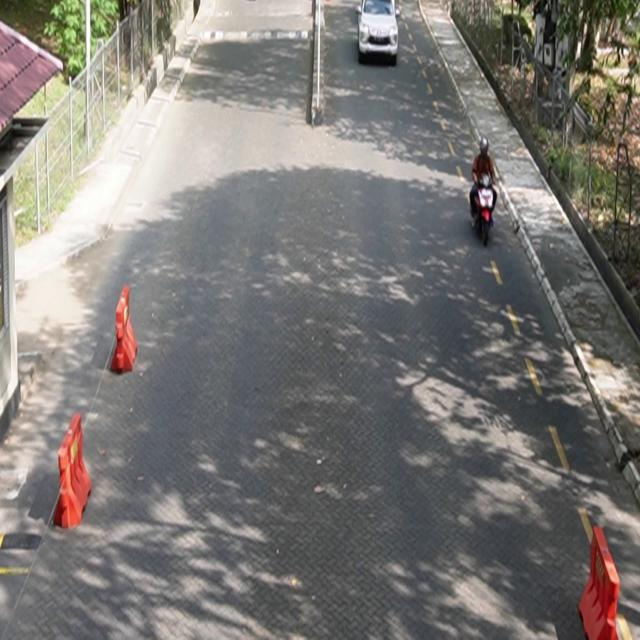car: (356, 1, 400, 66)
